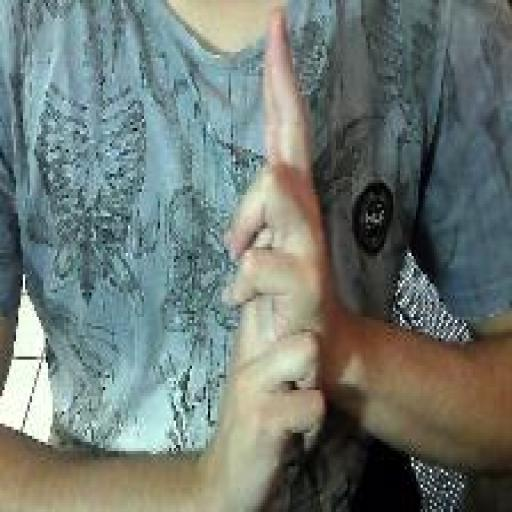Hitsuji -ram-: (217, 2, 332, 504)
